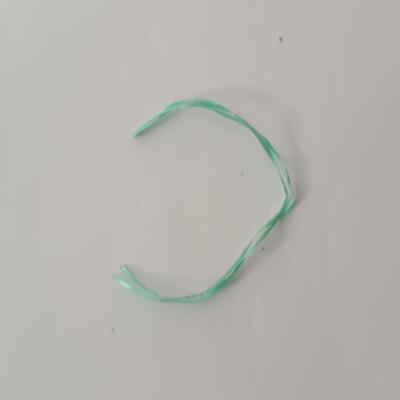thread: (111, 94, 304, 311)
